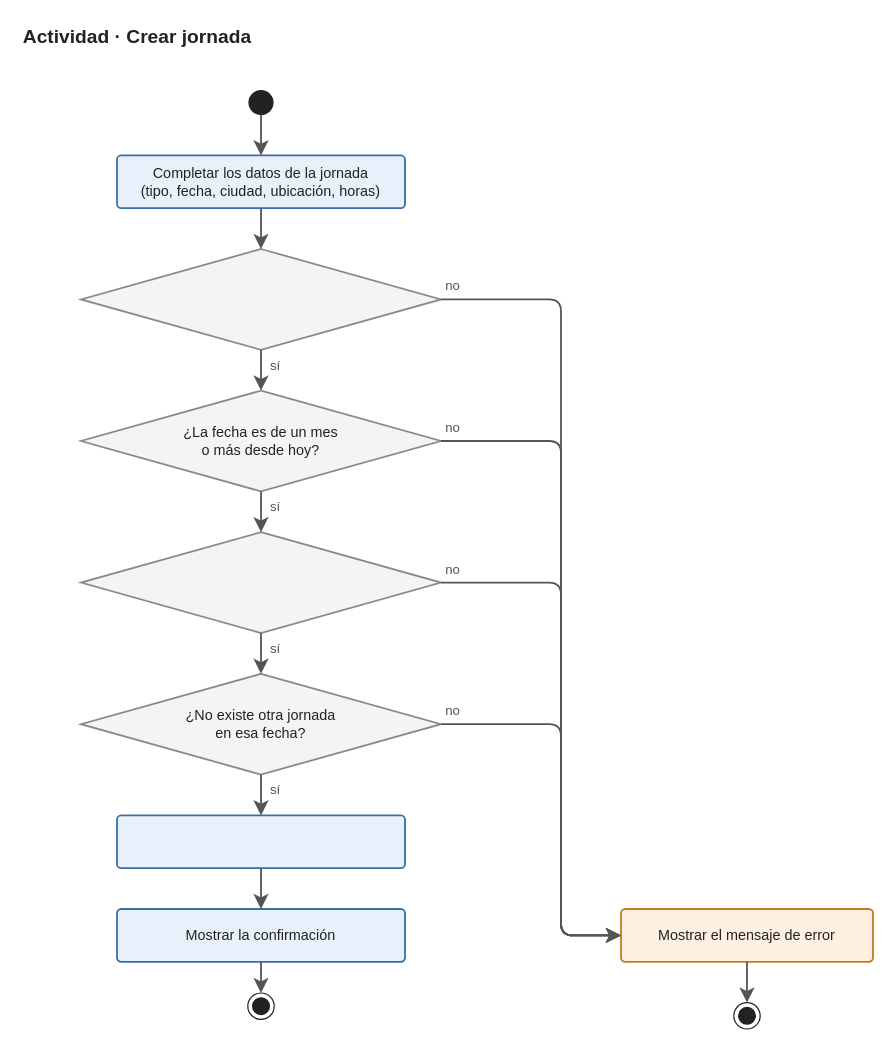
This 894x1050 diagram has some shape labels left out. The box of each missing label's shape, as (x1, y1, x2, y2) in pixels:
Guardar la jornada: (116, 814, 405, 869)
¿La hora de fin es posterior a la de inicio?: (80, 531, 441, 633)
¿Todos los datos están completos y son válidos?: (80, 248, 441, 350)
